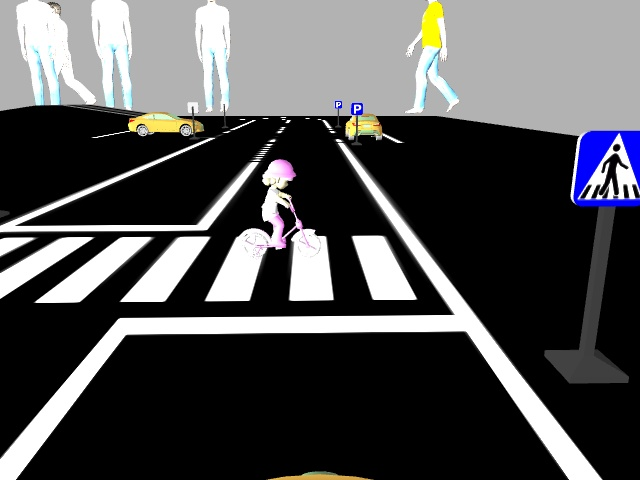Crosswalk: (570, 128, 639, 208)
Parking: (348, 100, 364, 115), (332, 98, 342, 109)
Pedestrian: (238, 157, 323, 260)
